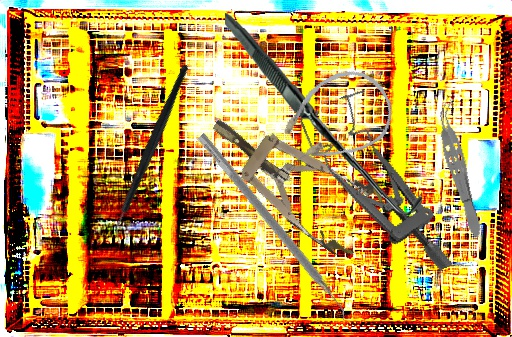Cannula: (265, 57, 404, 182)
Chopper: (62, 63, 242, 247)
Hook Surgical: (224, 6, 423, 220)
Spatula Surgical: (188, 132, 355, 325)
Speculum: (193, 89, 396, 266), (295, 81, 457, 299)
Tissue Forceps: (430, 97, 489, 241)
